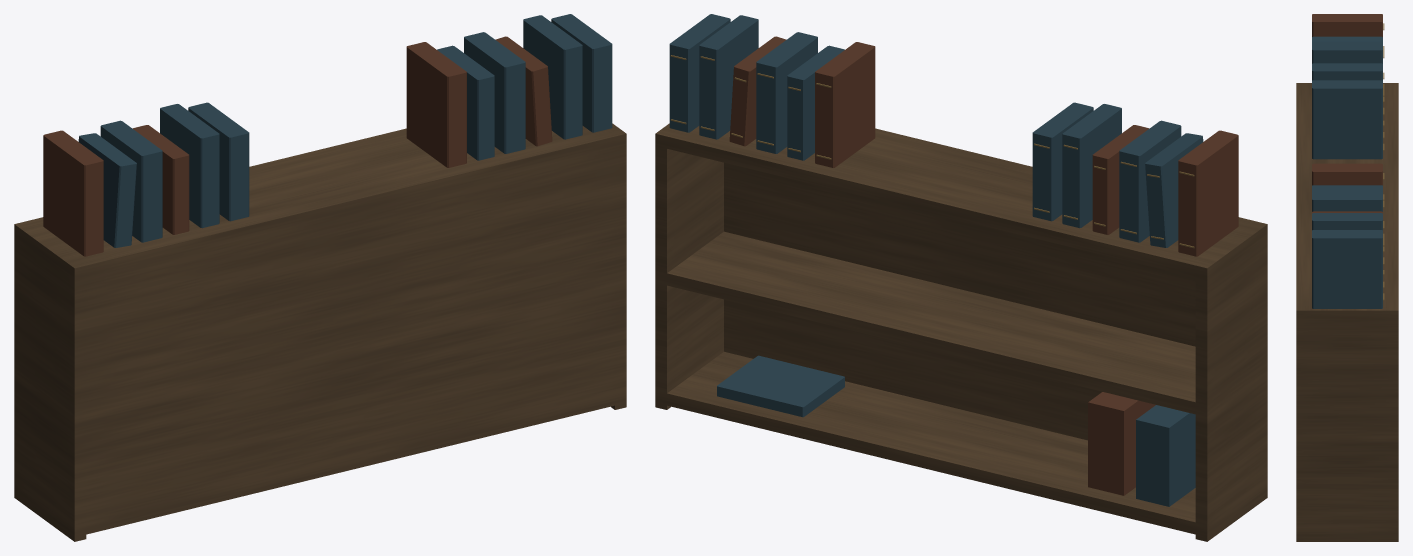
The model's file is SM_ArchiveProps_Bookcase_LOD2.fbx.
3 views of the same model, side by side, from view 1: azimuth 30°, elevation 25°; view 2: azimuth 150°, elevation 25°; view 3: azimuth 270°, elevation 25° (orthographic). The views are drawn at different scales.
Parts seen in each view (by area): view 1: SM_ArchiveProps_Bookcase_LOD2; view 2: SM_ArchiveProps_Bookcase_LOD2; view 3: SM_ArchiveProps_Bookcase_LOD2.
Part boxes in pixels (bbox=[...]): SM_ArchiveProps_Bookcase_LOD2: bbox=[14, 14, 626, 541]; SM_ArchiveProps_Bookcase_LOD2: bbox=[655, 14, 1267, 541]; SM_ArchiveProps_Bookcase_LOD2: bbox=[1296, 14, 1398, 541].
Bounding box in the file's own units: 1.9 × 0.36 × 1.2.
